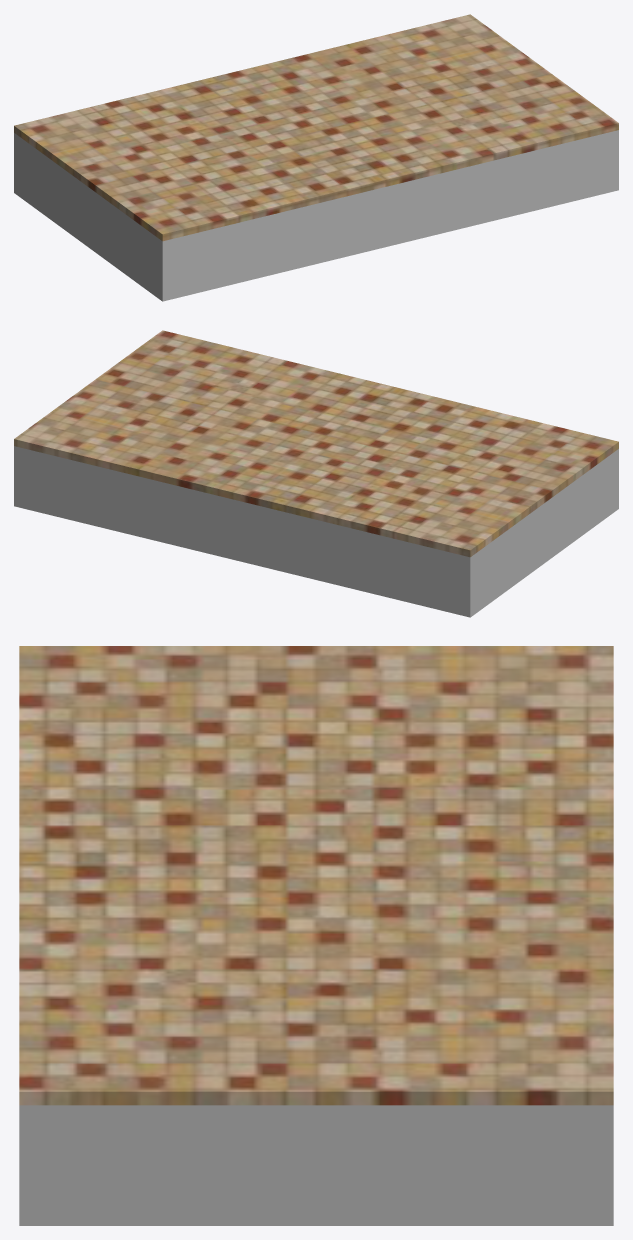
The model's file is parts_base_00d.fbx.
3 renders of one model, top to bottom at view 1: azimuth 30°, elevation 25°; view 2: azimuth 150°, elevation 25°; view 3: azimuth 270°, elevation 25°, orthographic. The views are drawn at different scales.
Visible parts, largest first — view 1: parts_base_00d; view 2: parts_base_00d; view 3: parts_base_00d.
Part boxes in pixels (x1,y1,x2,y2): parts_base_00d: [14, 14, 618, 301]; parts_base_00d: [14, 330, 618, 617]; parts_base_00d: [19, 646, 613, 1225].
Bounding box in the file's own units: 12.08 × 1.7 × 6.81.
